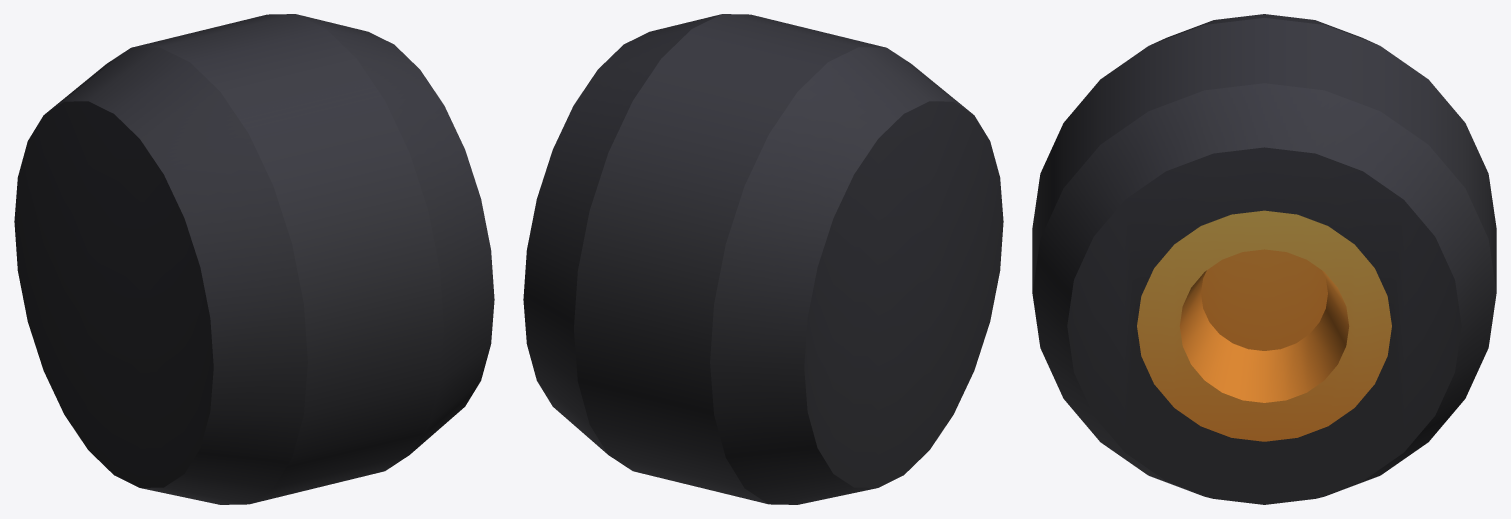
File: wheel-tractor-front.glb
3 views of the same model, side by side, from view 1: azimuth 30°, elevation 25°; view 2: azimuth 150°, elevation 25°; view 3: azimuth 270°, elevation 25° (orthographic).
Parts seen in each view (by area): view 1: wheel-tractor-front; view 2: wheel-tractor-front; view 3: wheel-tractor-front.
Boxes of the visible parts, x1,y1,x2,y2 form: wheel-tractor-front: (14, 14, 494, 504); wheel-tractor-front: (523, 14, 1003, 504); wheel-tractor-front: (1032, 14, 1496, 504).
Size of the model in its own units: 0.3693 by 0.5386 by 0.5386.
